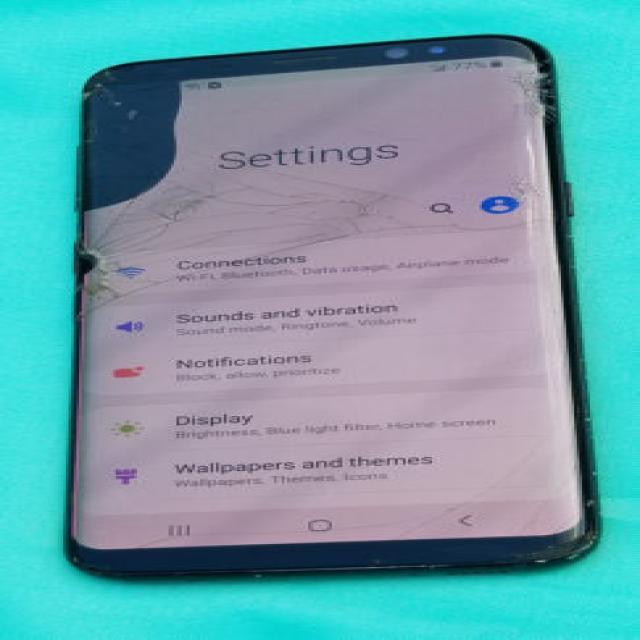dead pixel: (42, 61, 220, 215)
screen crack: (59, 174, 549, 321), (400, 422, 604, 575), (465, 28, 584, 132)
